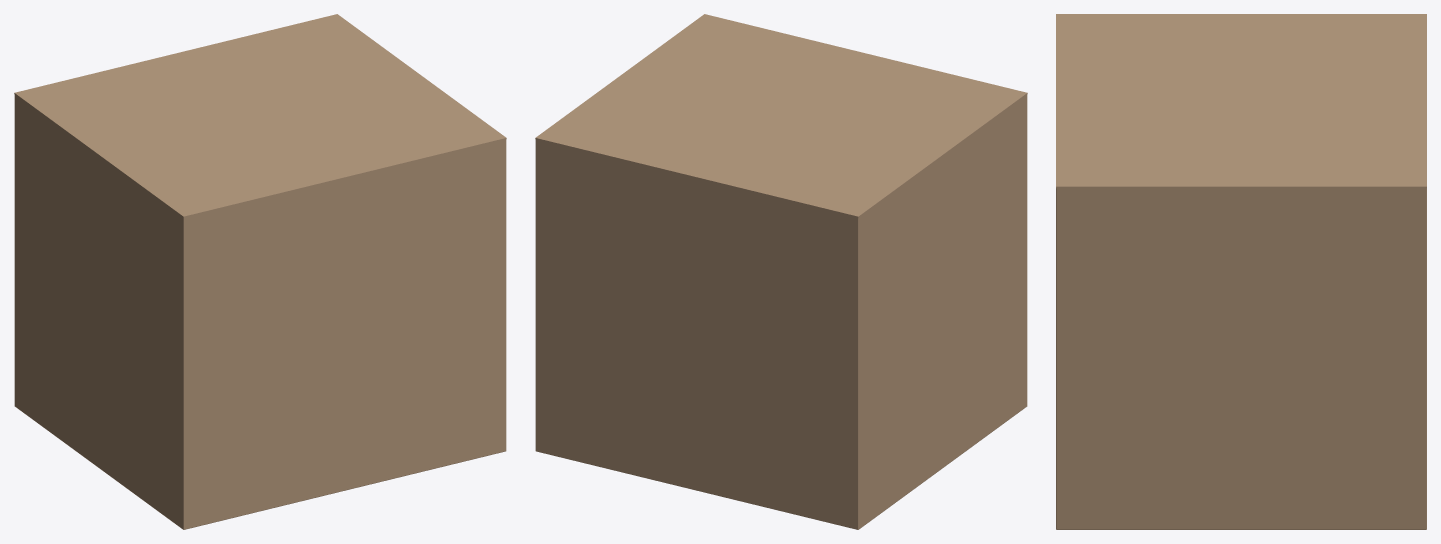
The model's file is combo-dual-flower-vertical-closed.glb.
3 views of the same model, side by side, from view 1: azimuth 30°, elevation 25°; view 2: azimuth 150°, elevation 25°; view 3: azimuth 270°, elevation 25° (orthographic). The views are drawn at different scales.
Visible parts, largest first — view 1: vbox_body, vbox_lid; view 2: vbox_body, vbox_lid; view 3: vbox_body, vbox_lid.
Part boxes in pixels (bbox=[...]): vbox_body: bbox=[14, 94, 506, 529]; vbox_lid: bbox=[14, 14, 506, 218]; vbox_body: bbox=[535, 95, 1027, 529]; vbox_lid: bbox=[535, 14, 1027, 218]; vbox_body: bbox=[1056, 187, 1426, 529]; vbox_lid: bbox=[1056, 14, 1426, 188].
Size of the model in its own units: 0.097 by 0.09 by 0.088.
